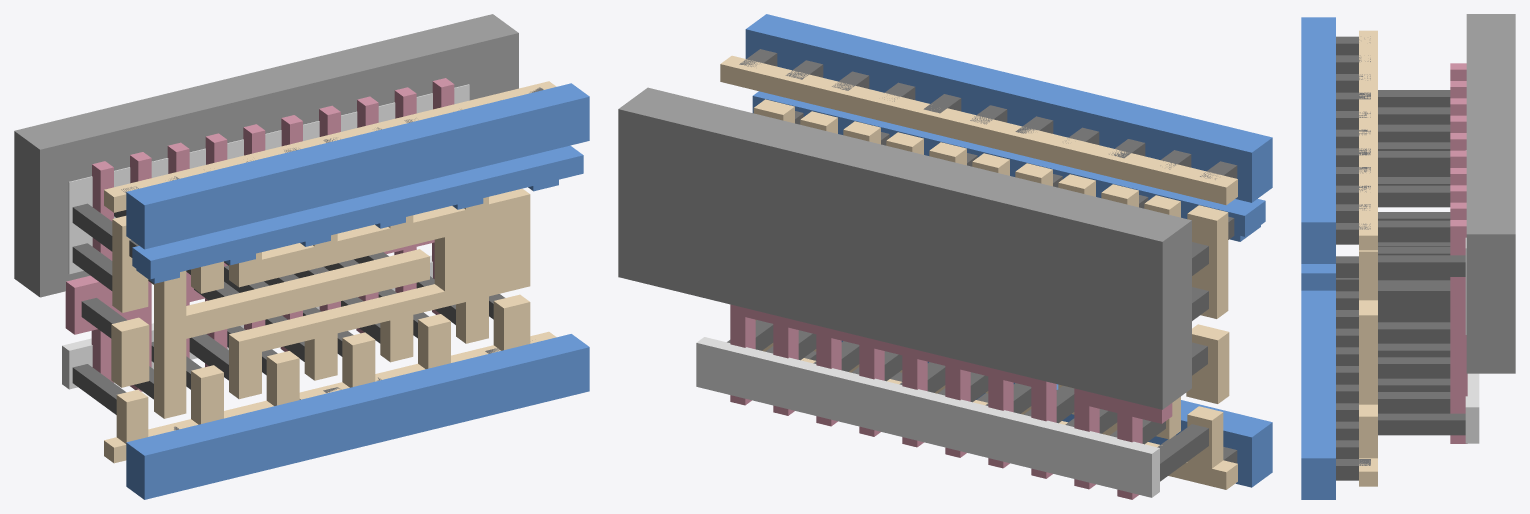
Rendered from sky130_fd_sc_hd__lpflow_clkbufkapwr_8.gds.gltf.
3 views of the same model, side by side, from view 1: azimuth 30°, elevation 25°; view 2: azimuth 150°, elevation 25°; view 3: azimuth 270°, elevation 25° (orthographic). The views are drawn at different scales.
Visible parts, largest first — view 1: sky130_fd_sc_hd__lpflow_clkbufkapwr_8_met1, sky130_fd_sc_hd__lpflow_clkbufkapwr_8_li1, sky130_fd_sc_hd__lpflow_clkbufkapwr_8_nwell, sky130_fd_sc_hd__lpflow_clkbufkapwr_8_poly, sky130_fd_sc_hd__lpflow_clkbufkapwr_8_licon, sky130_fd_sc_hd__lpflow_clkbufkapwr_8_diff; view 2: sky130_fd_sc_hd__lpflow_clkbufkapwr_8_nwell, sky130_fd_sc_hd__lpflow_clkbufkapwr_8_met1, sky130_fd_sc_hd__lpflow_clkbufkapwr_8_li1, sky130_fd_sc_hd__lpflow_clkbufkapwr_8_diff, sky130_fd_sc_hd__lpflow_clkbufkapwr_8_poly, sky130_fd_sc_hd__lpflow_clkbufkapwr_8_licon, sky130_fd_sc_hd__lpflow_clkbufkapwr_8_mcon; view 3: sky130_fd_sc_hd__lpflow_clkbufkapwr_8_licon, sky130_fd_sc_hd__lpflow_clkbufkapwr_8_nwell, sky130_fd_sc_hd__lpflow_clkbufkapwr_8_met1, sky130_fd_sc_hd__lpflow_clkbufkapwr_8_mcon, sky130_fd_sc_hd__lpflow_clkbufkapwr_8_li1, sky130_fd_sc_hd__lpflow_clkbufkapwr_8_poly, sky130_fd_sc_hd__lpflow_clkbufkapwr_8_diff.
Part boxes in pixels (left/top/right/bottom): sky130_fd_sc_hd__lpflow_clkbufkapwr_8_met1: left=126, top=83, right=589, bottom=499; sky130_fd_sc_hd__lpflow_clkbufkapwr_8_li1: left=104, top=81, right=556, bottom=463; sky130_fd_sc_hd__lpflow_clkbufkapwr_8_nwell: left=14, top=14, right=518, bottom=297; sky130_fd_sc_hd__lpflow_clkbufkapwr_8_poly: left=65, top=78, right=454, bottom=391; sky130_fd_sc_hd__lpflow_clkbufkapwr_8_licon: left=72, top=203, right=504, bottom=414; sky130_fd_sc_hd__lpflow_clkbufkapwr_8_diff: left=62, top=84, right=469, bottom=389; sky130_fd_sc_hd__lpflow_clkbufkapwr_8_nwell: left=618, top=87, right=1191, bottom=409; sky130_fd_sc_hd__lpflow_clkbufkapwr_8_met1: left=745, top=14, right=1272, bottom=487; sky130_fd_sc_hd__lpflow_clkbufkapwr_8_li1: left=720, top=55, right=1237, bottom=489; sky130_fd_sc_hd__lpflow_clkbufkapwr_8_diff: left=696, top=337, right=1159, bottom=497; sky130_fd_sc_hd__lpflow_clkbufkapwr_8_poly: left=730, top=304, right=1172, bottom=499; sky130_fd_sc_hd__lpflow_clkbufkapwr_8_licon: left=727, top=242, right=1208, bottom=481; sky130_fd_sc_hd__lpflow_clkbufkapwr_8_mcon: left=739, top=49, right=1237, bottom=463; sky130_fd_sc_hd__lpflow_clkbufkapwr_8_licon: left=1378, top=90, right=1465, bottom=435; sky130_fd_sc_hd__lpflow_clkbufkapwr_8_nwell: left=1466, top=14, right=1515, bottom=373; sky130_fd_sc_hd__lpflow_clkbufkapwr_8_met1: left=1301, top=17, right=1335, bottom=499; sky130_fd_sc_hd__lpflow_clkbufkapwr_8_mcon: left=1336, top=36, right=1370, bottom=480; sky130_fd_sc_hd__lpflow_clkbufkapwr_8_li1: left=1359, top=30, right=1377, bottom=486; sky130_fd_sc_hd__lpflow_clkbufkapwr_8_poly: left=1450, top=63, right=1467, bottom=443; sky130_fd_sc_hd__lpflow_clkbufkapwr_8_diff: left=1465, top=150, right=1479, bottom=443.
Bounding box in the file's own units: 5.44 × 3.2 × 2.24.
